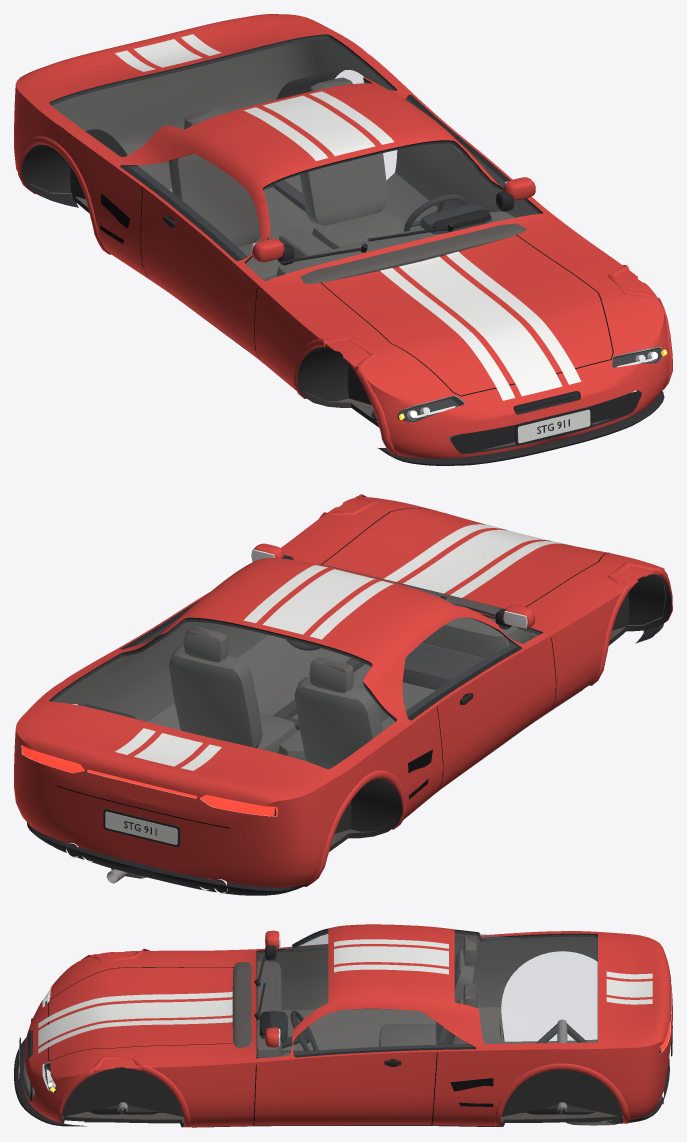
File: sports.glb
The picture shows the model from 3 angles, top to bottom: view 1: azimuth 30°, elevation 25°; view 2: azimuth 150°, elevation 25°; view 3: azimuth 270°, elevation 25°; orthographic projection. The views are drawn at different scales.
Visible parts, largest first — view 1: Body, Glass_Front, Glass_Rear, Glass_S_R; view 2: Body, Glass_Rear, Glass_S_R; view 3: Body, Glass_Rear, Glass_Front, Glass_S_L.
Part boxes in pixels (bbox=[...]): Body: bbox=[14, 14, 672, 465]; Glass_Front: bbox=[245, 141, 540, 280]; Glass_Rear: bbox=[50, 36, 395, 156]; Glass_S_R: bbox=[129, 155, 260, 258]; Body: bbox=[14, 494, 672, 895]; Glass_Rear: bbox=[51, 619, 395, 768]; Glass_S_R: bbox=[403, 618, 515, 716]; Body: bbox=[14, 924, 672, 1127]; Glass_Rear: bbox=[455, 931, 597, 1043]; Glass_Front: bbox=[257, 930, 327, 1057]; Glass_S_L: bbox=[293, 1009, 471, 1054].
Size of the model in its own units: 1.99 by 1.14 by 4.59.
